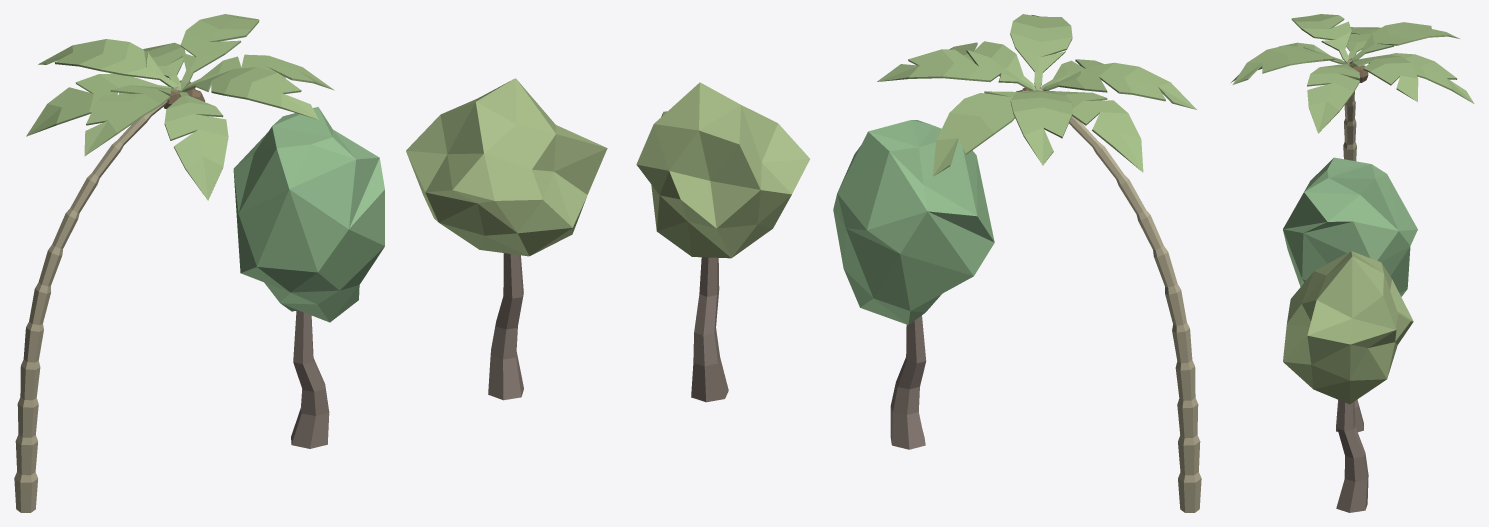
The model's file is tree.glb.
3 views of the same model, side by side, from view 1: azimuth 30°, elevation 25°; view 2: azimuth 150°, elevation 25°; view 3: azimuth 270°, elevation 25° (orthographic). The views are drawn at different scales.
Parts seen in each view (by area): view 1: pCube1, pPlatonic4, pCylinder13, pPlane7, pasted__pCylinder15, pCylinder14, pPlane4, pPlane1, pPlane8, pPlane6, pPlane5, pPlane2 (+1 smaller); view 2: pCube1, pPlatonic4, pCylinder13, pPlane3, pasted__pCylinder15, pCylinder14, pPlane1, pPlane6, pPlane5, pPlane8, pPlane4, pPlane2; view 3: pPlatonic4, pCube1, pasted__pCylinder15, pPlane2, pPlane4, pPlane6, pPlane8, pPlane1, pPlane3, pCylinder13, pPlane5.
Part boxes in pixels (x1,y1,x2,y2): pCube1: (233, 107, 384, 322); pPlatonic4: (406, 78, 607, 256); pCylinder13: (14, 86, 180, 512); pPlane7: (164, 91, 228, 200); pasted__pCylinder15: (488, 253, 523, 400); pCylinder14: (291, 309, 329, 448); pPlane4: (181, 67, 318, 119); pPlane1: (84, 85, 180, 156); pPlane8: (38, 39, 176, 87); pPlane6: (180, 14, 259, 90); pPlane5: (26, 73, 173, 136); pPlane2: (182, 54, 334, 90); pCube1: (833, 120, 994, 324); pPlatonic4: (636, 82, 809, 258); pCylinder13: (1038, 88, 1201, 512); pPlane3: (933, 90, 1028, 176); pasted__pCylinder15: (691, 257, 728, 402); pCylinder14: (890, 315, 926, 449); pPlane1: (1042, 62, 1196, 109); pPlane6: (877, 49, 1034, 90); pPlane5: (1045, 90, 1143, 172); pPlane8: (1010, 90, 1072, 165); pPlane4: (1010, 14, 1072, 90); pPlane2: (949, 41, 1035, 90); pPlatonic4: (1283, 251, 1413, 404); pCube1: (1283, 157, 1417, 296); pasted__pCylinder15: (1336, 400, 1368, 512); pPlane2: (1307, 63, 1359, 133); pPlane4: (1232, 45, 1346, 84); pPlane6: (1349, 54, 1418, 101); pPlane8: (1352, 22, 1459, 60); pPlane1: (1291, 14, 1351, 63); pPlane3: (1350, 53, 1474, 103); pCylinder13: (1343, 59, 1356, 161); pPlane5: (1346, 27, 1380, 59).
Bounding box in the file's own units: 0.1387 × 0.0972 × 0.0638.
